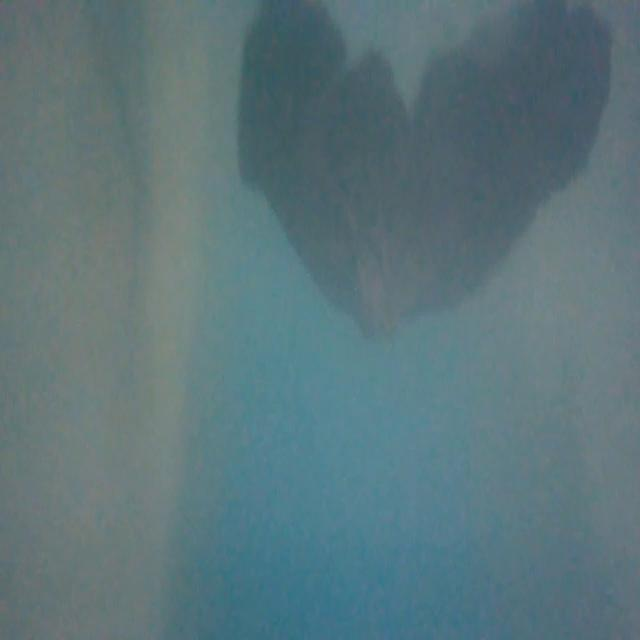plastic bags: (237, 1, 620, 355)
